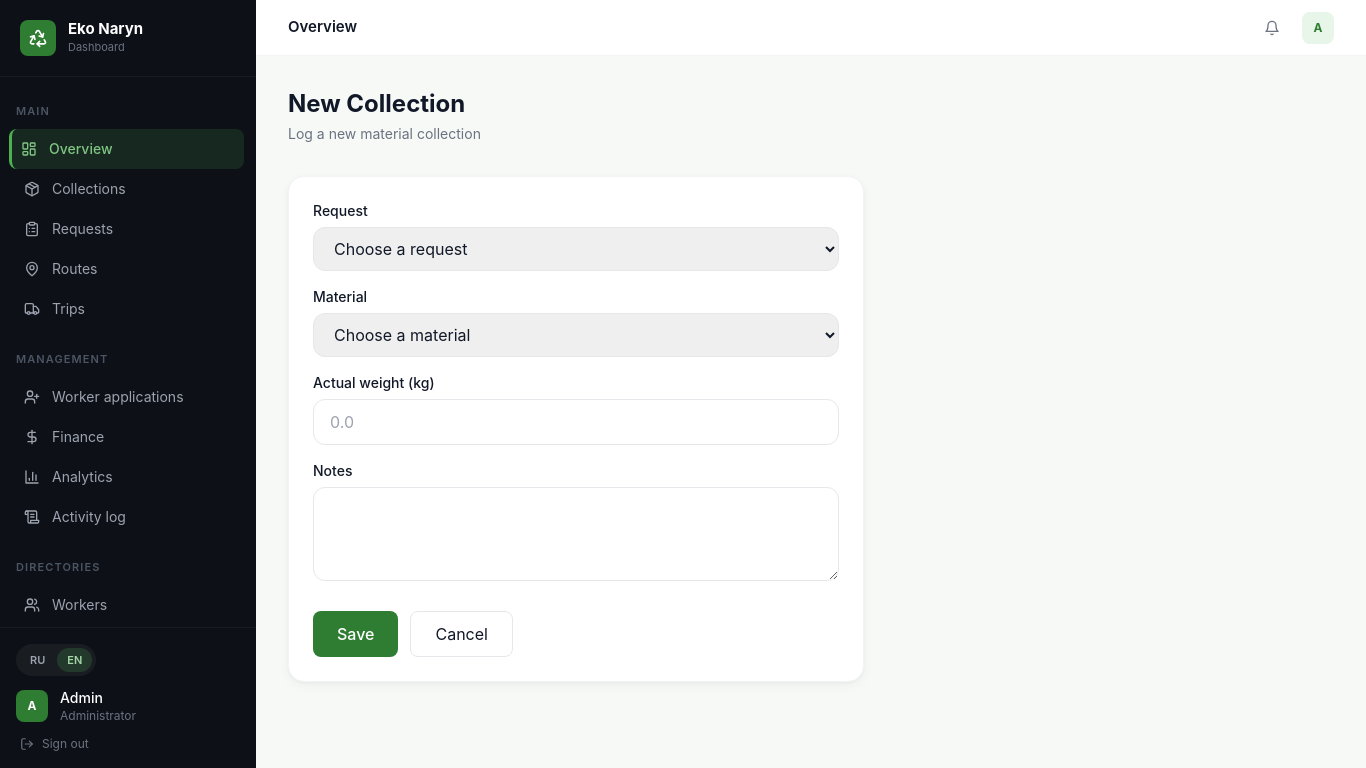
Test case: NewCollectionPage › a 4xx error from /collections is surfaced inline
Select "Alice — PET (4 kg) — 12 Lenin Ave" in the dropdown labelled "Request" at point(576, 249), box [313,227,839,271]
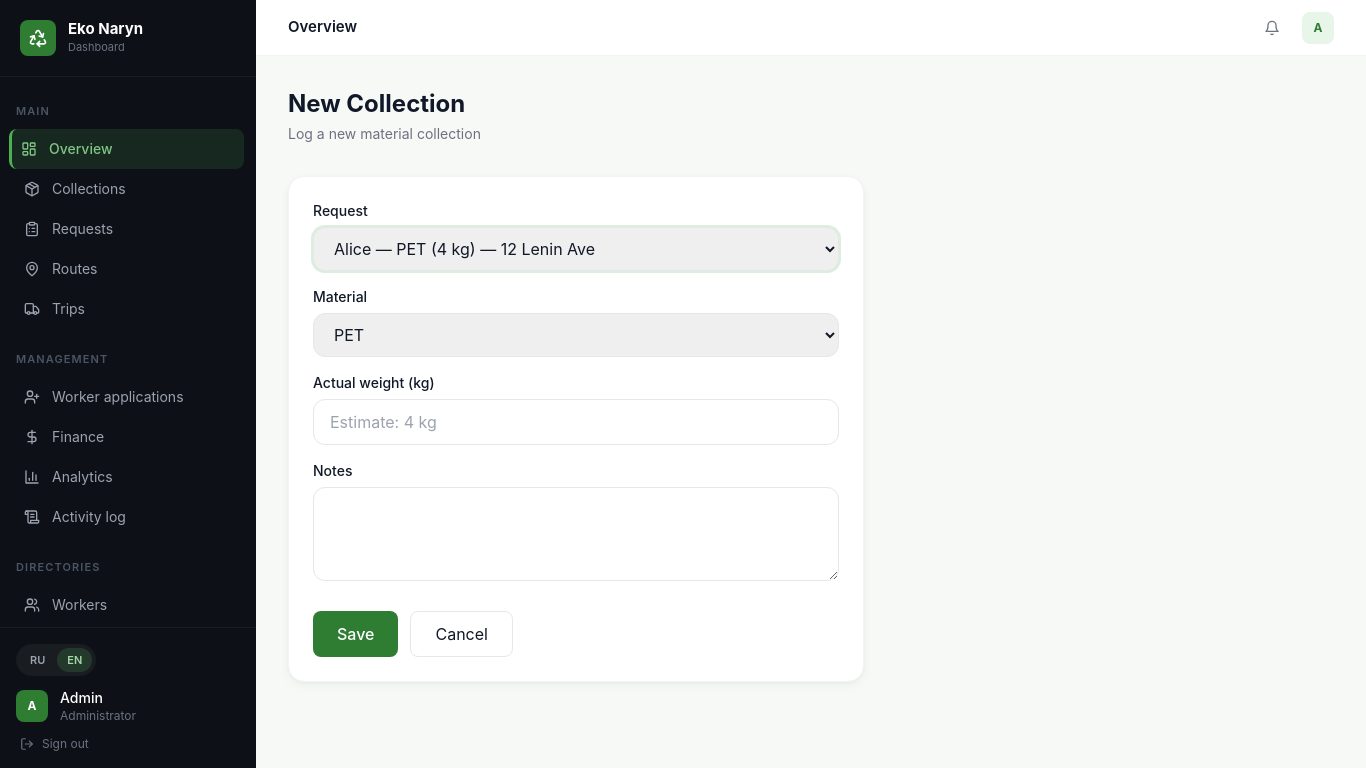
Type "1" into the number field at point(576, 422), box [313,399,839,445]
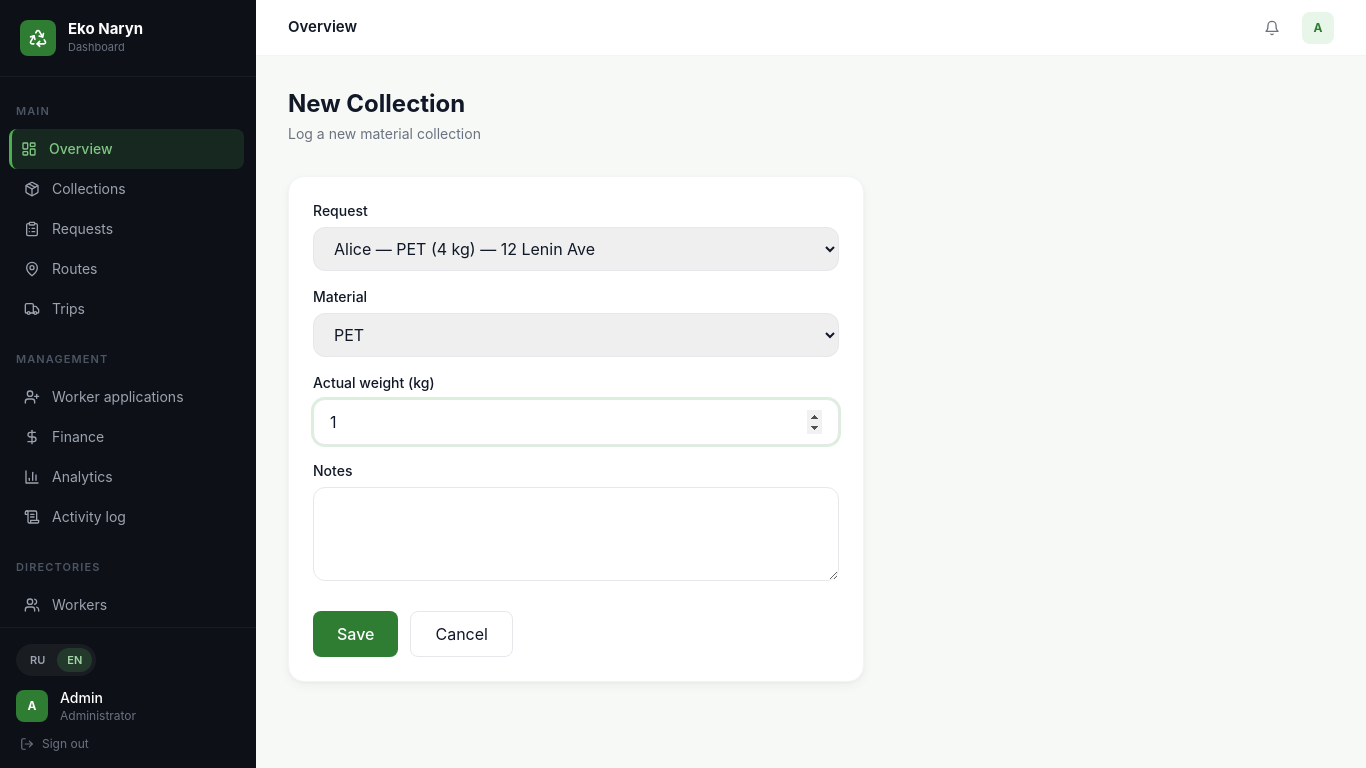
Click the button "Save" at point(356, 634), box [313,611,398,657]
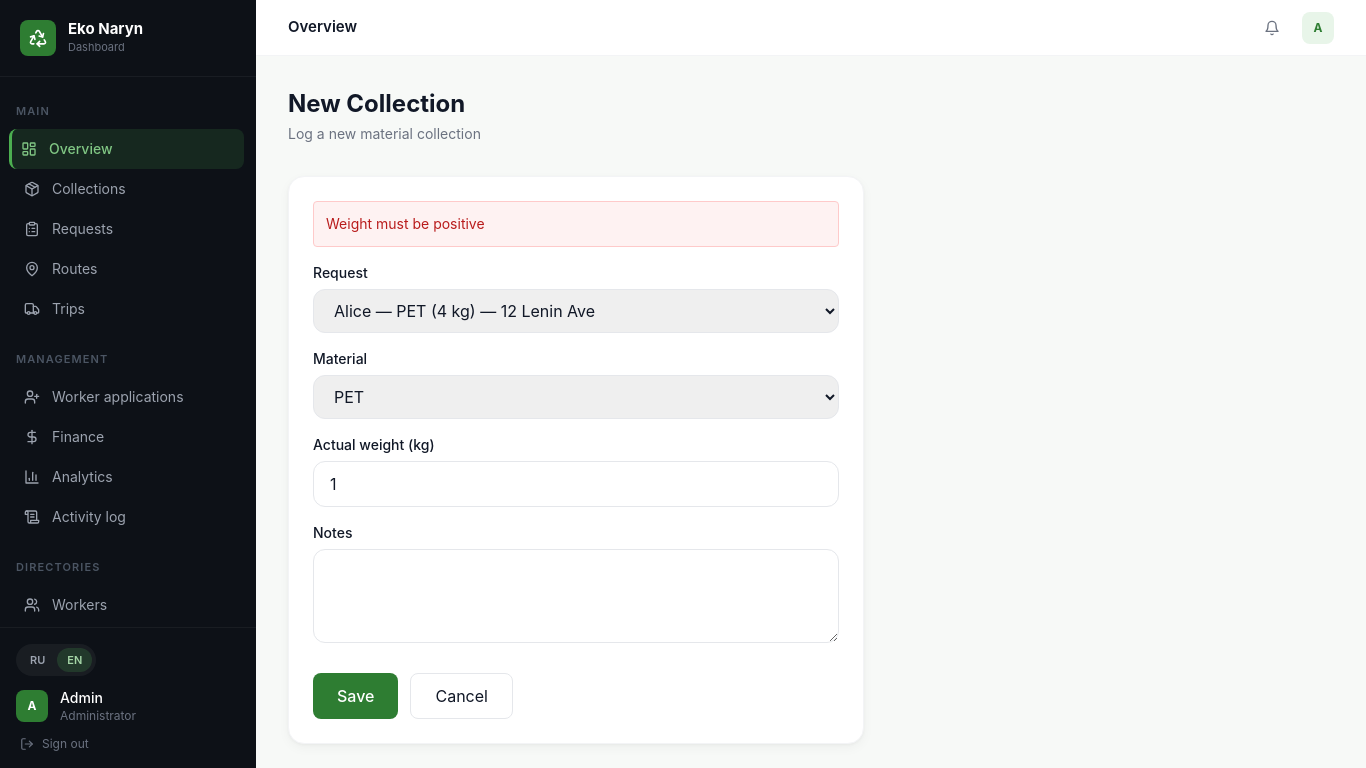
Now the text "Weight must be positive" is shown, box [313,201,839,247]
